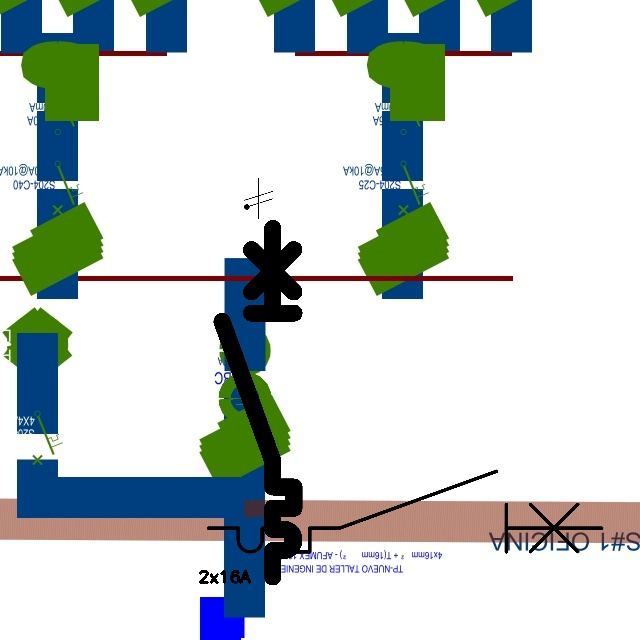interruptor_termomagnetico: (198, 461, 612, 562), (213, 219, 303, 585)
